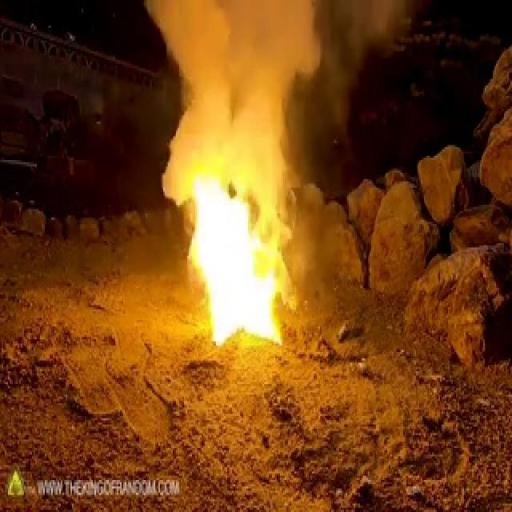smoke: (184, 135, 290, 355)
